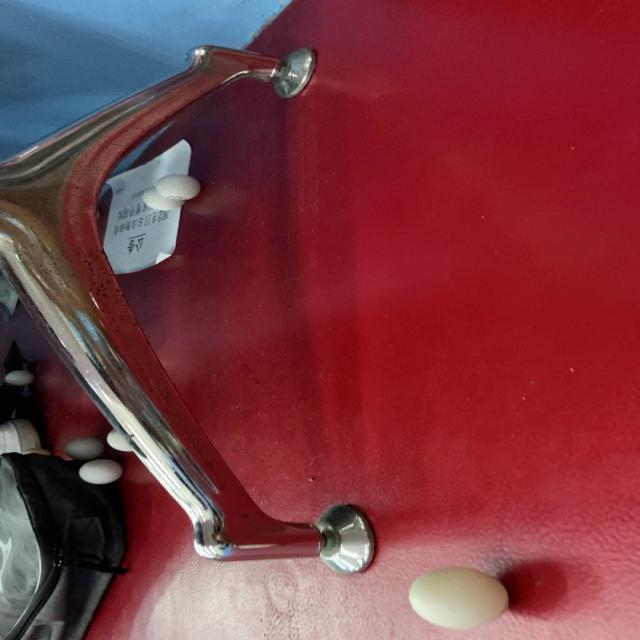ping-pong-ball: (407, 566, 511, 632), (153, 172, 203, 200), (79, 458, 125, 486), (140, 186, 186, 212), (61, 436, 108, 461), (104, 427, 148, 453), (2, 368, 38, 386)
